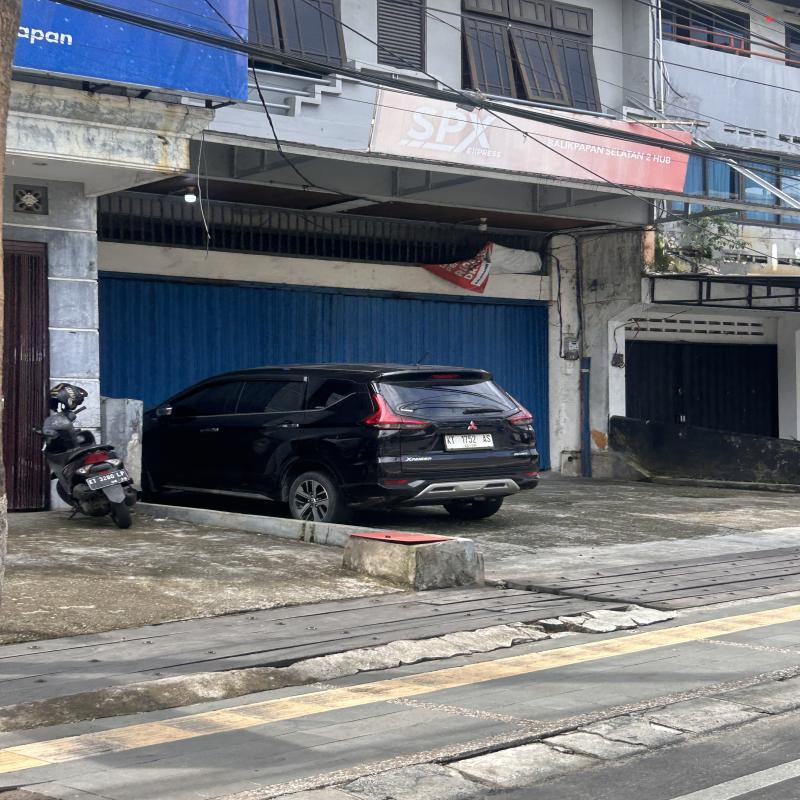license plate on a car: (444, 431, 493, 450)
